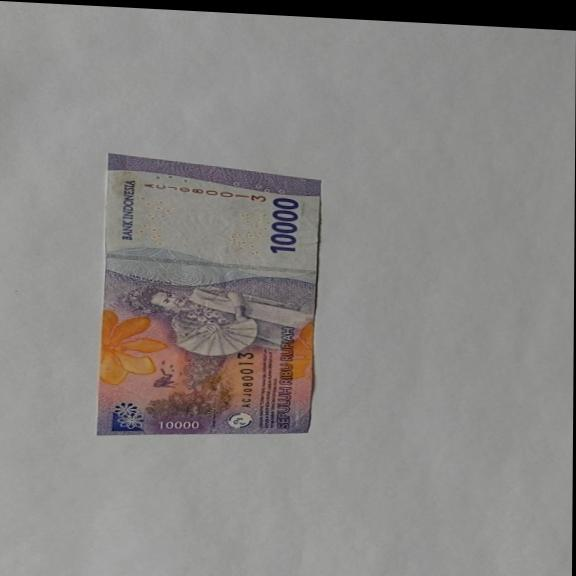Kertas: (95, 151, 321, 447), (267, 196, 300, 255)
